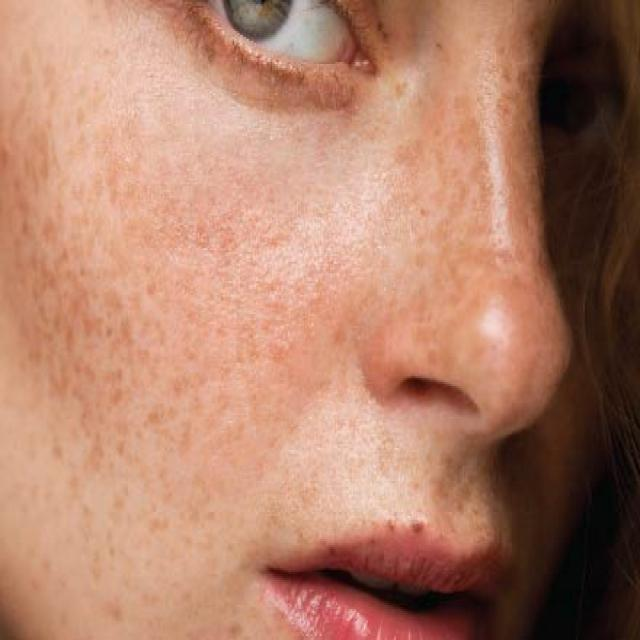pigmentation: (26, 119, 143, 471)
